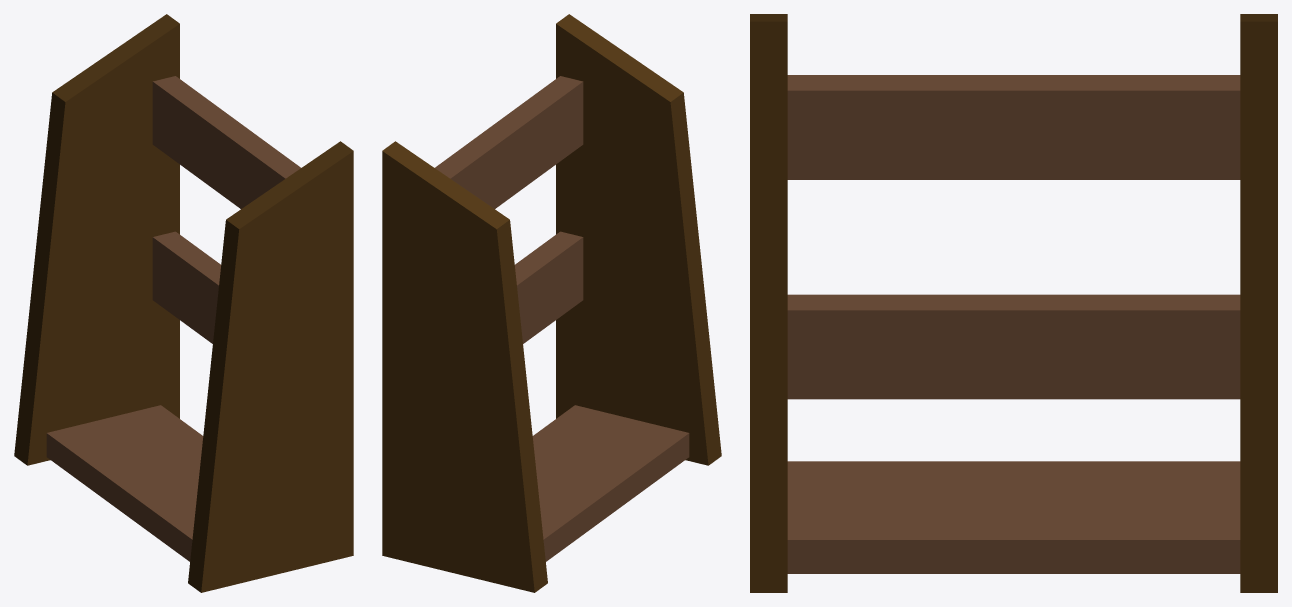
Rendered from Weapon_rack.fbx.
3 views of the same model, side by side, from view 1: azimuth 30°, elevation 25°; view 2: azimuth 150°, elevation 25°; view 3: azimuth 270°, elevation 25° (orthographic). The views are drawn at different scales.
Parts seen in each view (by area): view 1: WeaponRack; view 2: WeaponRack; view 3: WeaponRack.
Boxes of the visible parts, x1,y1,x2,y2 form: WeaponRack: (14,14,353,592); WeaponRack: (382,14,721,592); WeaponRack: (750,14,1277,592).
Size of the model in its own units: 38.62 by 97.88 by 81.96.
1 material, 1 textured.
